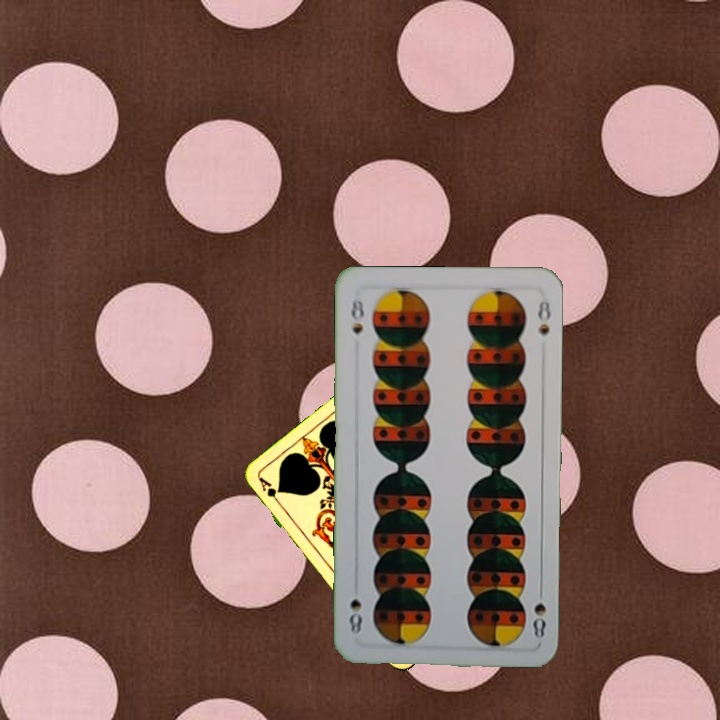GA: (255, 473, 285, 509)
S8: (347, 295, 367, 337), (529, 599, 549, 641)
